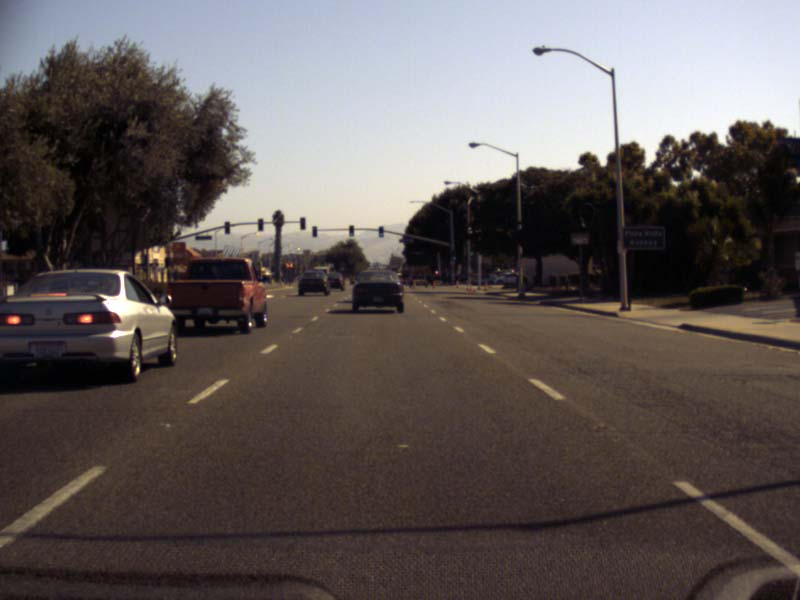Green: (347, 224, 355, 236), (378, 226, 384, 236), (469, 245, 474, 257), (451, 250, 456, 261)
Red: (311, 225, 318, 237)
